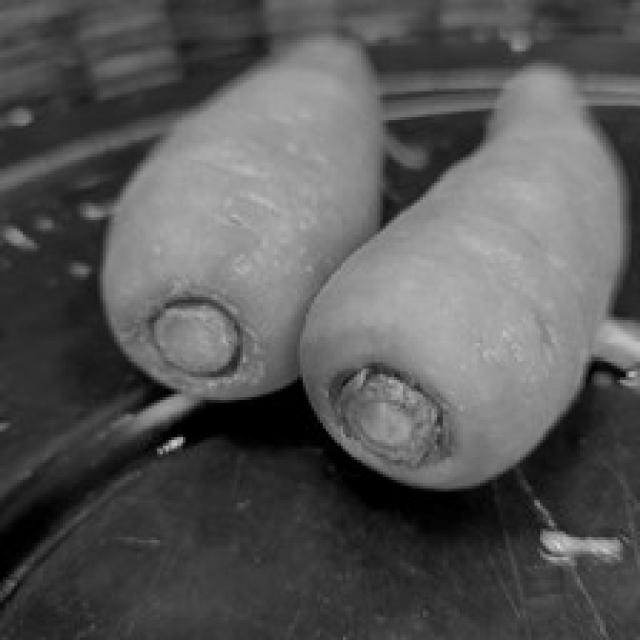Fresh_Carrot: (320, 66, 614, 505), (100, 36, 371, 411)
